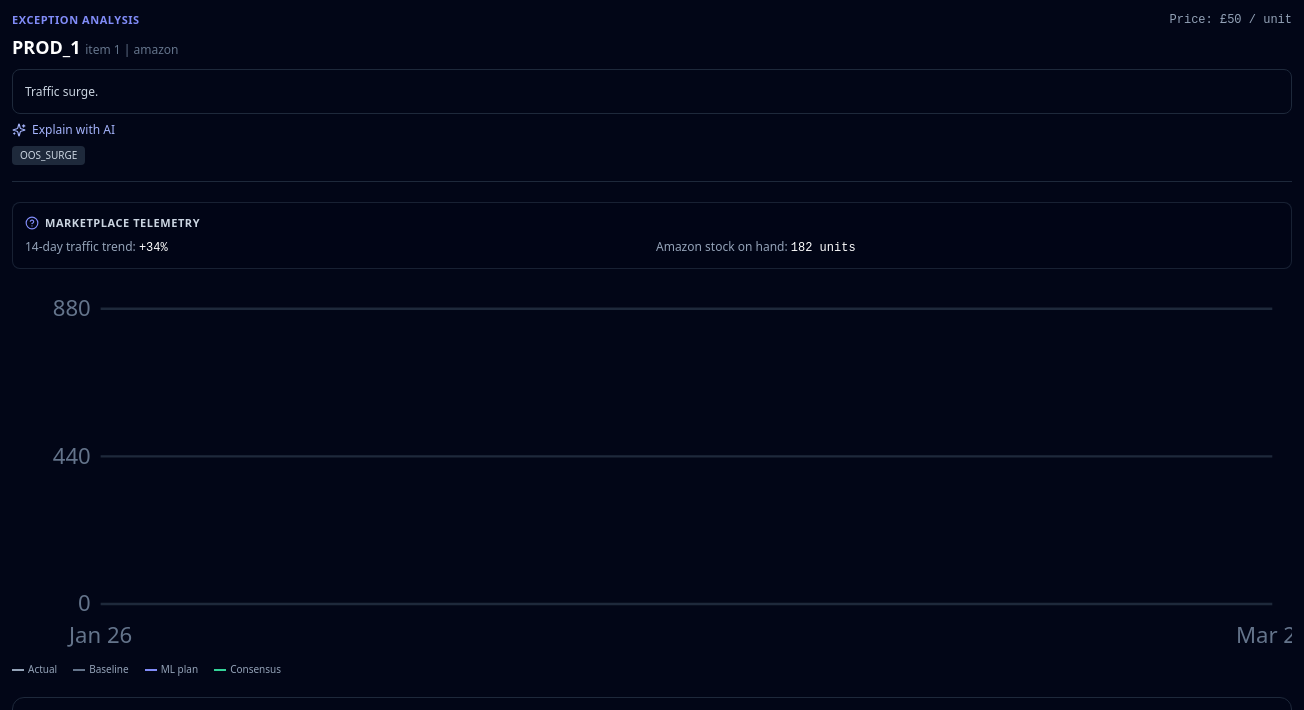
it: DetailPanel › reports a failed explanation request
This screenshot has width=1304, height=710.
Click the button "Explain with AI" at [64, 130], box [12,122,115,138]
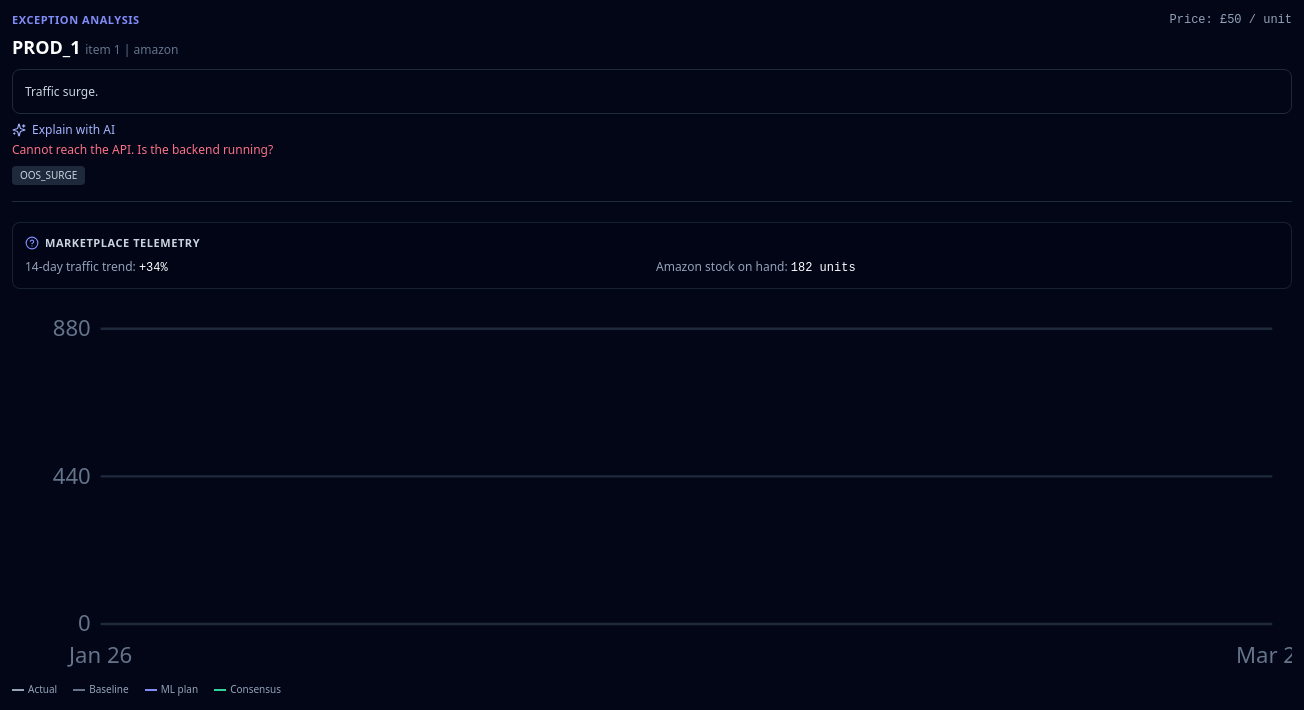
expect the text "Cannot reach the API. Is the backend running?" is shown: met, box [12,141,273,158]
